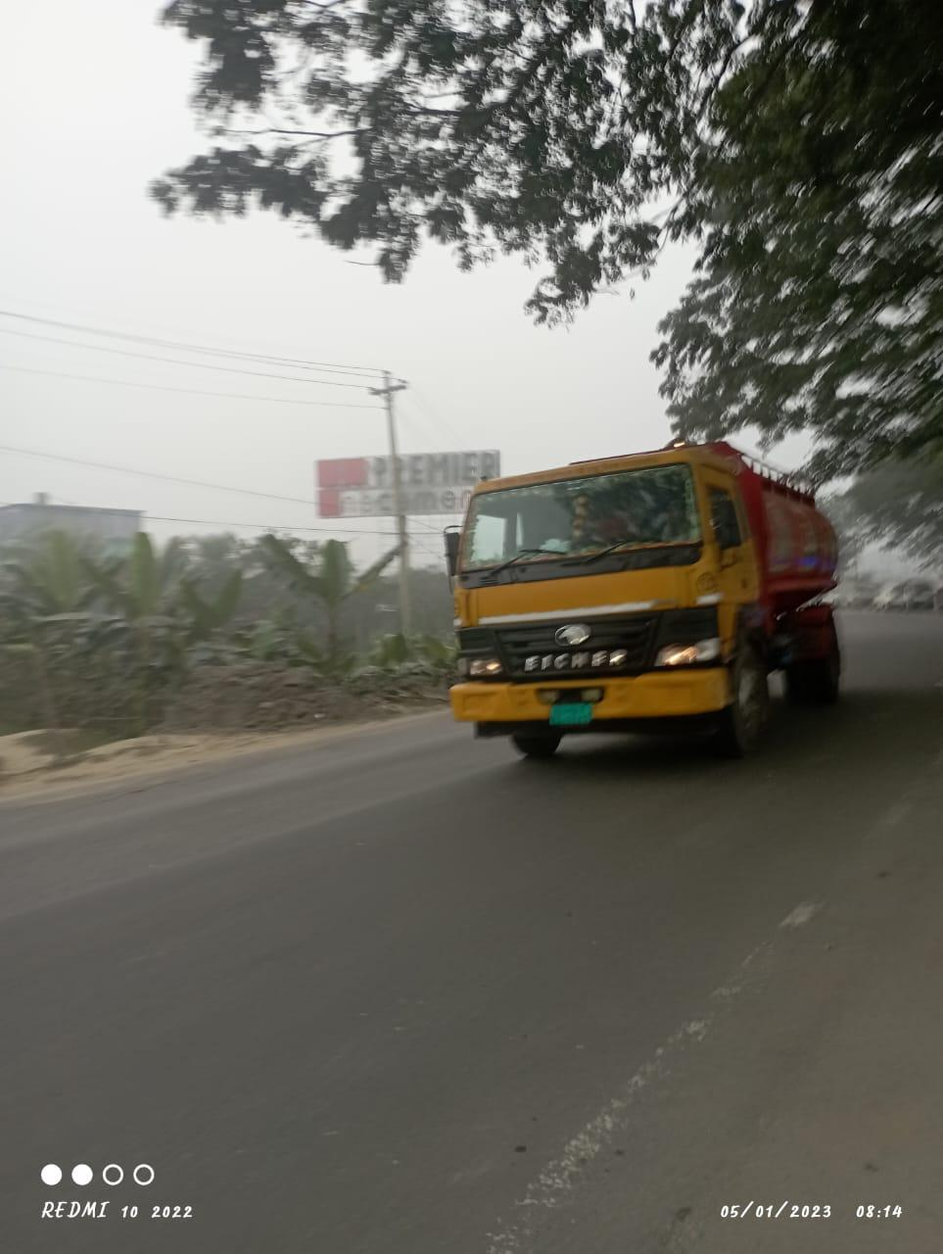Truck: (432, 430, 864, 756)
